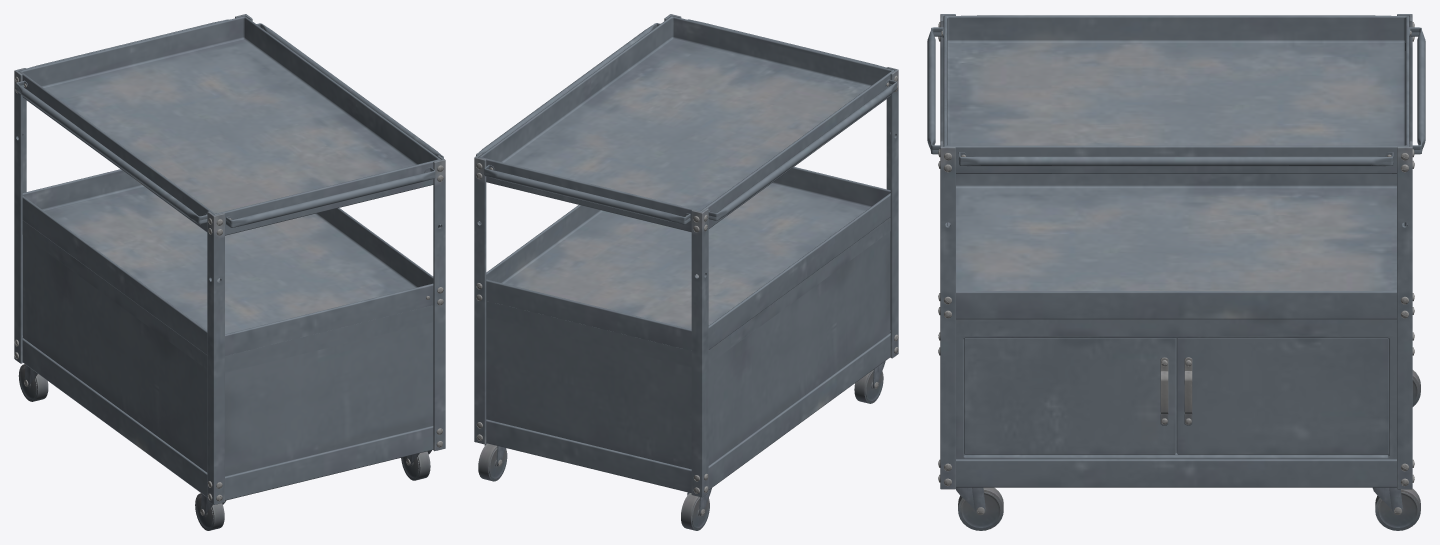
Rendered from cart.glb.
3 renders of one model, left to right at view 1: azimuth 30°, elevation 25°; view 2: azimuth 150°, elevation 25°; view 3: azimuth 270°, elevation 25°, orthographic. The views are drawn at different scales.
Visible parts, largest first — view 1: cart; view 2: cart; view 3: cart.
Part boxes in pixels (<box>): cart: <box>14,14,445,530</box>; cart: <box>474,14,898,530</box>; cart: <box>927,14,1425,530</box>.
Size of the model in its own units: 1.1 by 1.38 by 1.6.
1 material, 1 textured.
